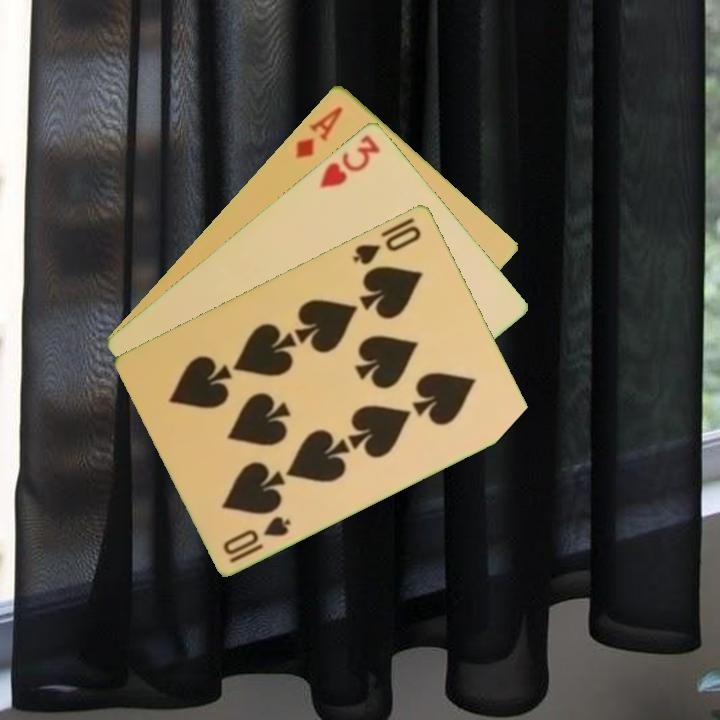10s: (219, 512, 294, 565), (349, 221, 424, 267)
3h: (316, 130, 384, 192)
Ad: (291, 102, 346, 161)
